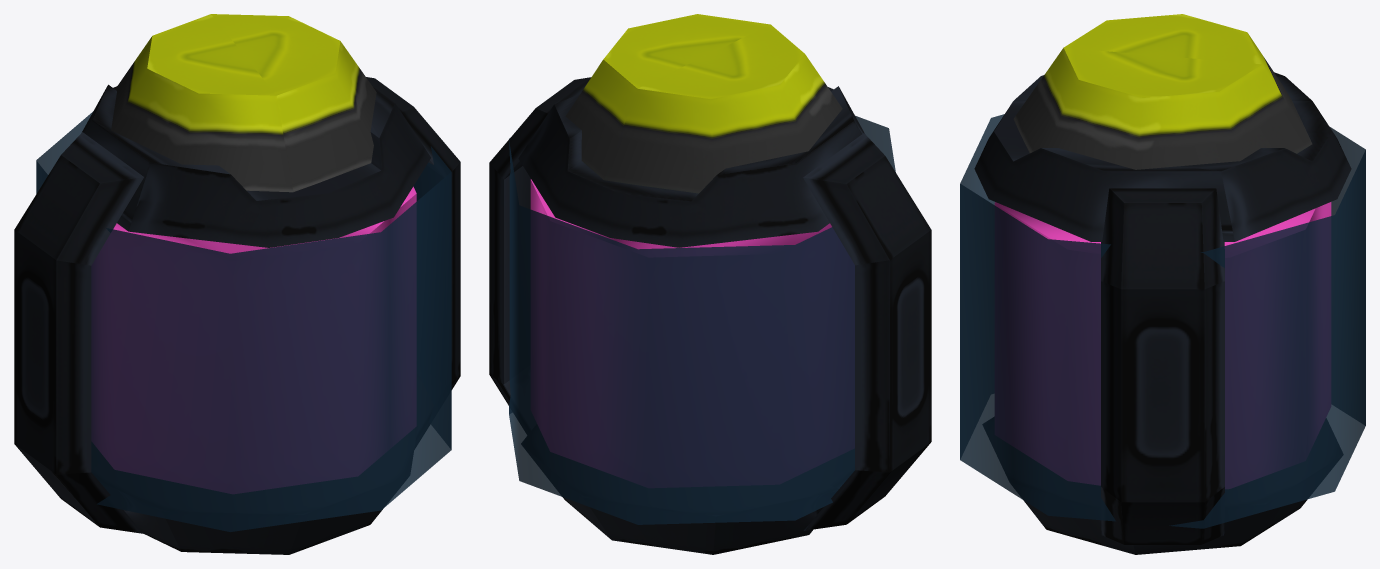
File: obj_consumable_chemical_lod1.fbx
The picture shows the model from 3 angles, left to right: view 1: azimuth 30°, elevation 25°; view 2: azimuth 150°, elevation 25°; view 3: azimuth 270°, elevation 25°; orthographic projection.
Parts seen in each view (by area): view 1: polySurface121; view 2: polySurface121; view 3: polySurface121.
Boxes of the visible parts, left/top/right/bottom form: polySurface121: left=14, top=14, right=460, bottom=554; polySurface121: left=489, top=14, right=931, bottom=554; polySurface121: left=960, top=14, right=1365, bottom=554.
Size of the model in its own units: 1.79 by 1.88 by 1.57.
2 materials, 1 textured.
